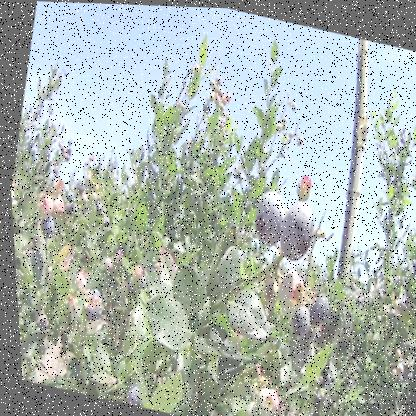intermediate: (273, 262, 301, 306), (293, 171, 316, 200), (36, 195, 54, 220), (48, 195, 64, 216)
mature: (246, 186, 288, 244), (276, 204, 316, 255), (286, 305, 311, 334), (306, 293, 328, 323), (80, 290, 102, 319), (35, 217, 54, 239), (124, 382, 139, 404), (401, 369, 409, 383)
young: (248, 381, 278, 416), (239, 397, 263, 416), (68, 267, 86, 291), (386, 357, 403, 380)
